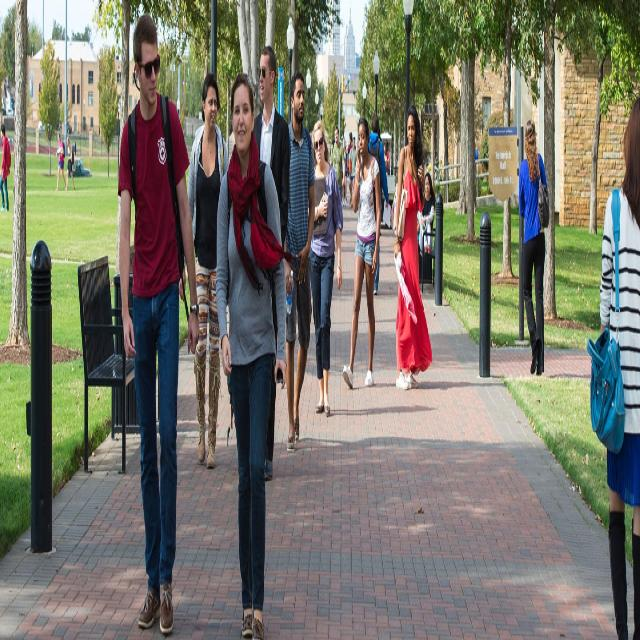body: (116, 11, 200, 635), (215, 70, 288, 639), (586, 92, 640, 639), (177, 70, 231, 467), (250, 43, 292, 481), (282, 71, 316, 452), (389, 104, 433, 392), (307, 119, 343, 418), (342, 115, 381, 389), (518, 116, 550, 374), (367, 114, 389, 296), (417, 170, 436, 253), (329, 122, 346, 208), (0, 122, 12, 212), (55, 130, 67, 191), (348, 136, 356, 209), (65, 135, 75, 192), (341, 136, 348, 208), (344, 130, 356, 155), (384, 140, 390, 176), (416, 214, 421, 240), (30, 70, 34, 100), (75, 159, 81, 167)
